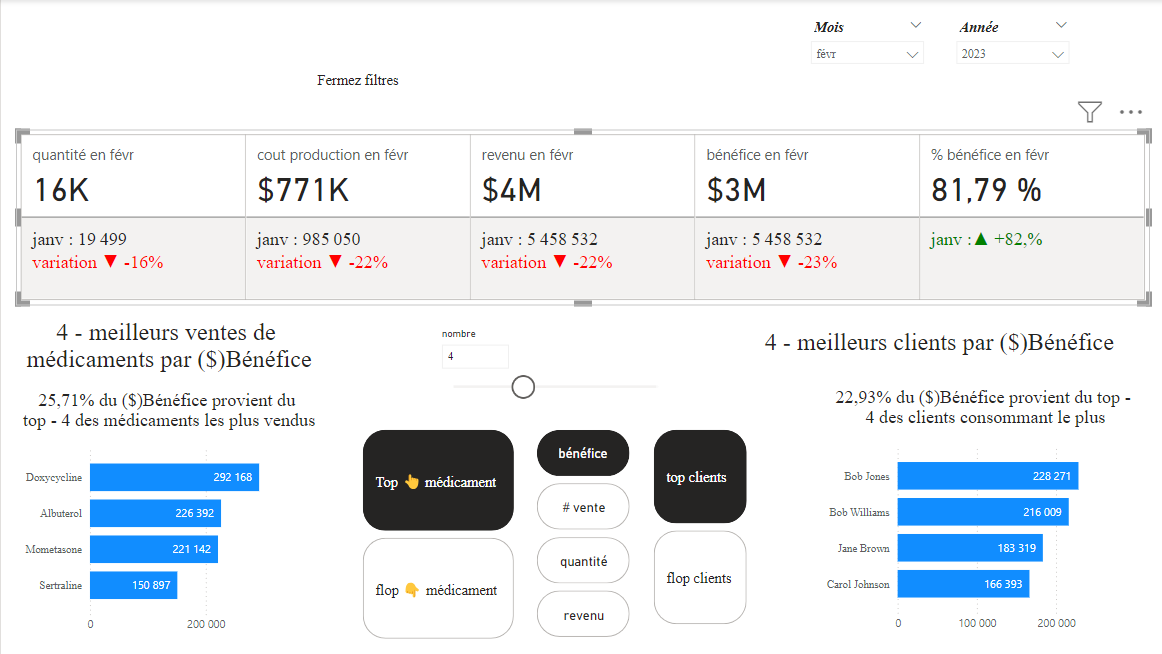

The dashboard page shown, as its layout file describes it:
{"tool":"powerbi","page":{"name":"ventes","canvas":[1280,720],"ordinal":0},"visuals":[{"type":"slicer","title":"Mois","fields":{"Values":["date.Mois"]},"box":[944,16,151.6,64],"z":0,"group":"g1"},{"type":"cardVisual","fields":{"Data":["_mesures.quantité vendue","_mesures.coût total production","_mesures.revenu total","_mesures.bénéfice","_mesures.marge bénéficiaire"]},"box":[16,144,1248,192],"z":0},{"type":"slicer","title":"Année","fields":{"Values":["date.Année"]},"box":[1112.4,16,151.6,64],"z":1000,"group":"g1"},{"type":"advancedSlicerVisual","title":"Plage numerique Top/Flop médicament/client","fields":{"Values":["top👆/flop👇.top👆/flop👇"]},"box":[416,352,416,144],"z":1000},{"type":"advancedSlicerVisual","fields":{"Values":["switch top/flop medicaments.switch top/flop medicaments"]},"box":[416,576,416,64],"z":2000},{"type":"advancedSlicerVisual","fields":{"Values":["KIP.KIP"]},"box":[416,496,416,80],"z":3000},{"type":"clusteredBarChart","fields":{"Y":["_mesures.top médicament"],"Category":["DrugLookup.DrugName"]},"box":[16,464,384,240],"z":4000},{"type":"card","fields":{"Values":["_mesures.titre: medicament"]},"box":[16,336,368,80],"z":5000},{"type":"card","fields":{"Values":["_mesures.legende médicament"]},"box":[16,416,384,64],"z":6000},{"type":"clusteredBarChart","fields":{"Y":["_mesures.flop clients"],"Category":["CustomerTable.FullName"]},"box":[848,448,416,256],"z":7000},{"type":"advancedSlicerVisual","fields":{"Values":["Top/Flop Clients.Top/Flop Clients"]},"box":[416,640,416,64],"z":8000},{"type":"card","fields":{"Values":["_mesures.titre: client"]},"box":[848,336,432,64],"z":9000},{"type":"card","fields":{"Values":["_mesures.legende client"]},"box":[848,400,432,64],"z":10000},{"type":"group","id":"g1","title":"Mois/Année","box":[944,16,320,64],"z":11000},{"type":"textbox","box":[16,0,704,48],"z":12000},{"type":"pageNavigator","box":[272,64,640,48],"z":12001}]}

Visuals, with their boxes in screenshot pixels (x1, y1, x2, y2), scaled from the page's 1280x720 canvas onto the 1162x654 screenshot:
"Mois" slicer: [857, 15, 995, 73]
cardVisual - _mesures.quantité vendue x _mesures.coût total production: [15, 131, 1147, 305]
"Année" slicer: [1010, 15, 1147, 73]
"Plage numerique Top/Flop médicament/client" advancedSlicerVisual: [378, 320, 755, 451]
advancedSlicerVisual - switch top/flop medicaments.switch top/flop medicaments: [378, 523, 755, 581]
advancedSlicerVisual - KIP.KIP: [378, 451, 755, 523]
clusteredBarChart - _mesures.top médicament x DrugLookup.DrugName: [15, 421, 363, 639]
card - _mesures.titre: medicament: [15, 305, 349, 378]
card - _mesures.legende médicament: [15, 378, 363, 436]
clusteredBarChart - _mesures.flop clients x CustomerTable.FullName: [770, 407, 1147, 639]
advancedSlicerVisual - Top/Flop Clients.Top/Flop Clients: [378, 581, 755, 639]
card - _mesures.titre: client: [770, 305, 1161, 363]
card - _mesures.legende client: [770, 363, 1161, 421]
"Mois/Année" group: [857, 15, 1147, 73]
textbox: [15, 0, 654, 44]
pageNavigator: [247, 58, 828, 102]
